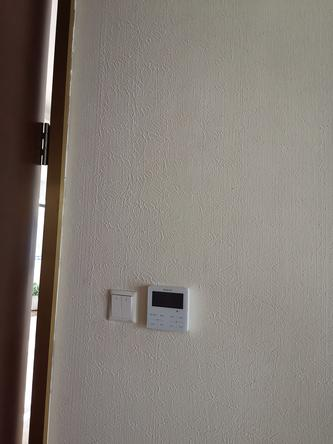switch: (119, 294, 134, 321), (109, 293, 122, 319)
